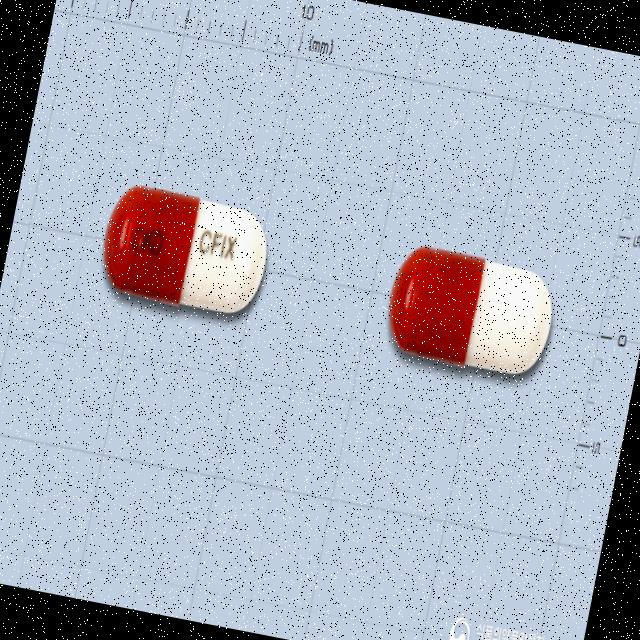Pocef Cap: (95, 178, 277, 322), (379, 242, 562, 383)
